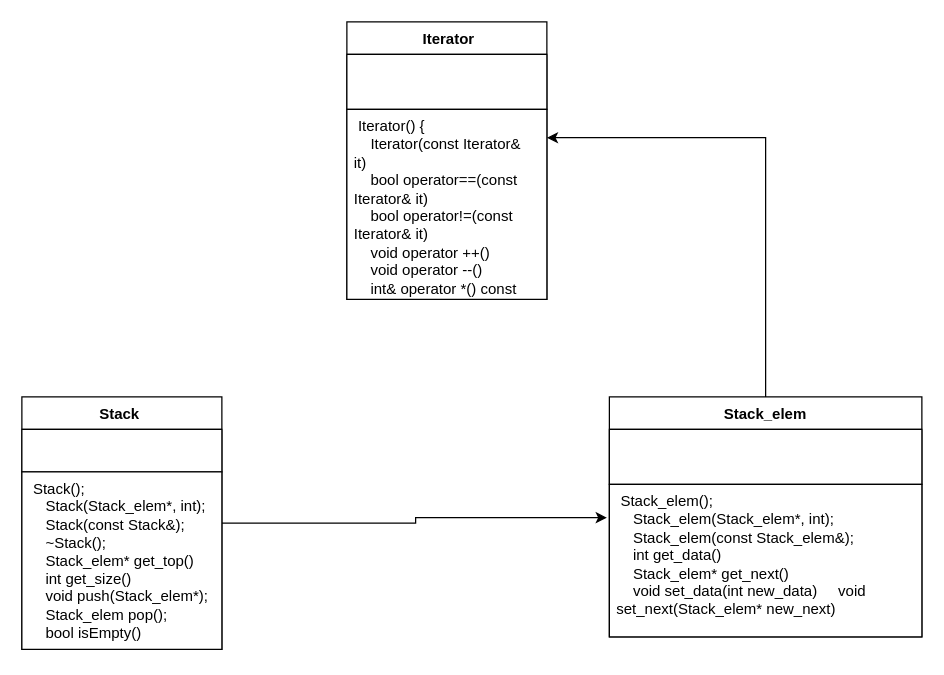
The diagram is 944 pixels wide and 675 high, and some of its shapes have lost their labels. Here are the shapes that lost their labels. From the top down, the centre of each, then its label:
the point at 446,81: friend class Vector; int* elem;
the point at 121,450: Stack_elem* top; int size;
the point at 765,456: int data; Stack_elem* next;
